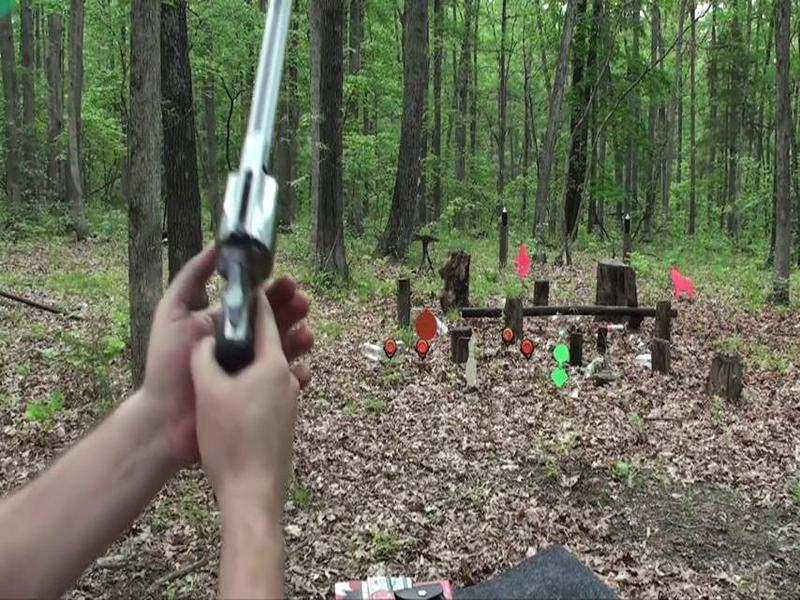Revolver: (150, 1, 335, 387)
